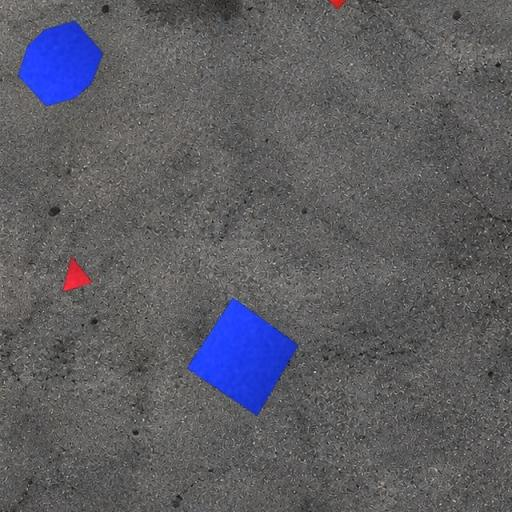BLUE_SQUARE: (186, 298, 299, 416)
